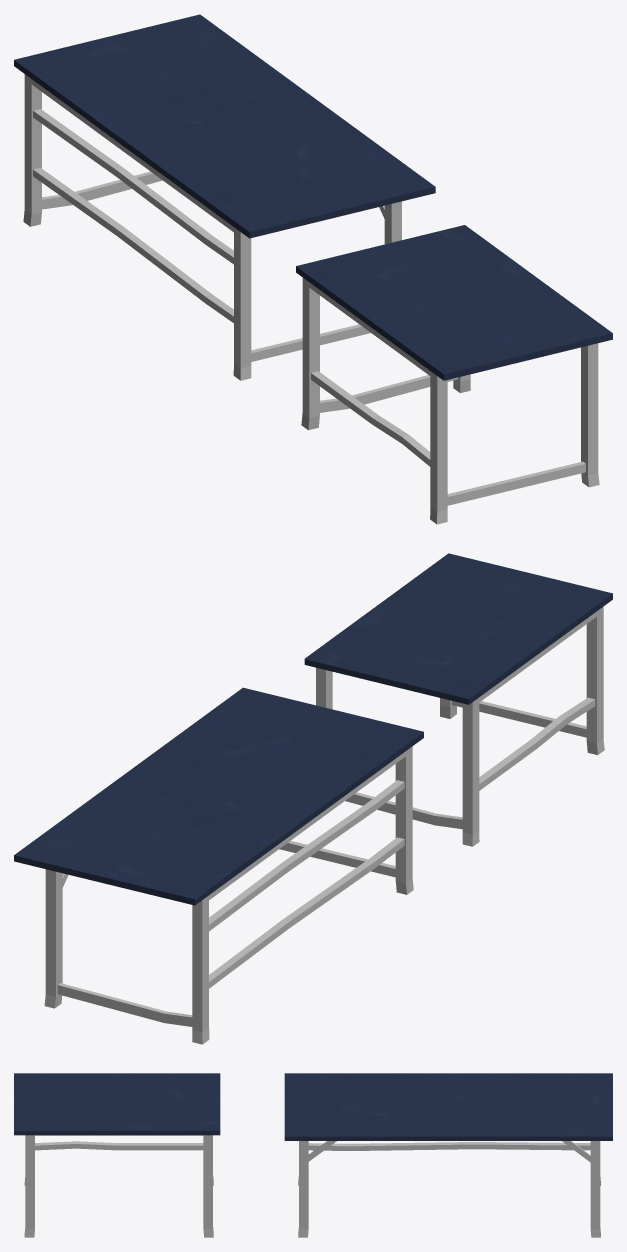
File: Tables.fbx
3 renders of one model, top to bottom at view 1: azimuth 30°, elevation 25°; view 2: azimuth 150°, elevation 25°; view 3: azimuth 270°, elevation 25°, orthographic. The views are drawn at different scales.
Parts seen in each view (by area): view 1: Куб.004, Куб; view 2: Куб.004, Куб; view 3: Куб.004, Куб.
Part boxes in pixels (<box>): Куб.004: <box>14,14,435,380</box>; Куб: <box>296,225,612,524</box>; Куб.004: <box>14,687,423,1044</box>; Куб: <box>304,553,612,846</box>; Куб.004: <box>284,1073,612,1237</box>; Куб: <box>14,1073,220,1237</box>.
Size of the model in its own units: 1602 by 1282 by 6411.
2 materials, 2 textured.
